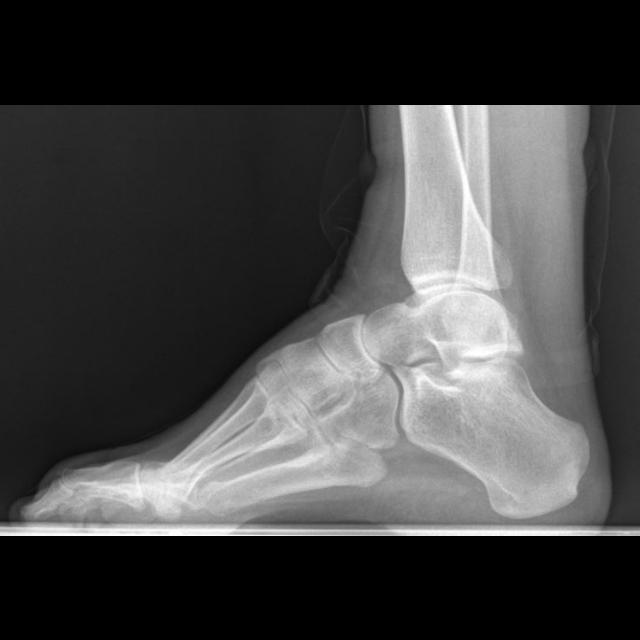a: (391, 357, 588, 519)
b: (317, 316, 382, 380)
c: (201, 438, 389, 515)
